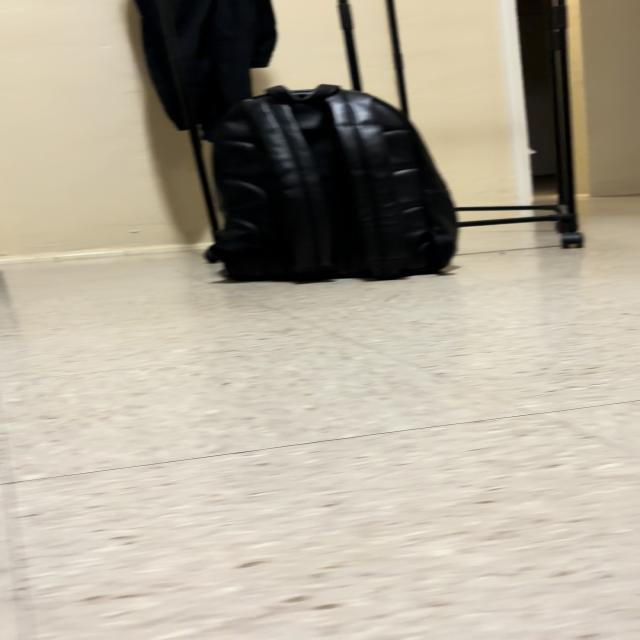backpack: (209, 85, 457, 281)
